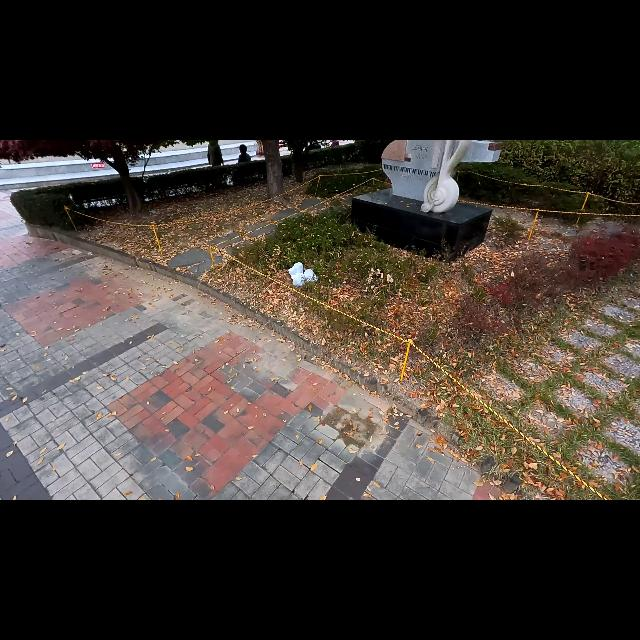trash: (301, 264, 317, 284), (288, 260, 306, 276), (291, 274, 307, 288)
